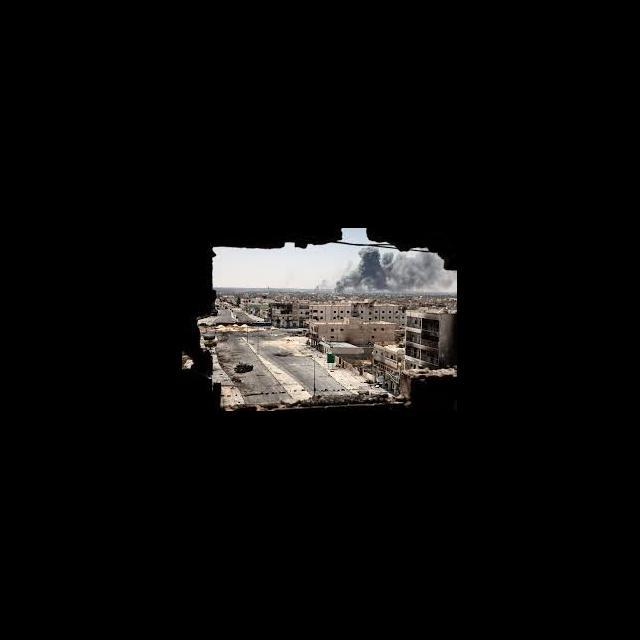Smoke: (330, 250, 448, 292)
